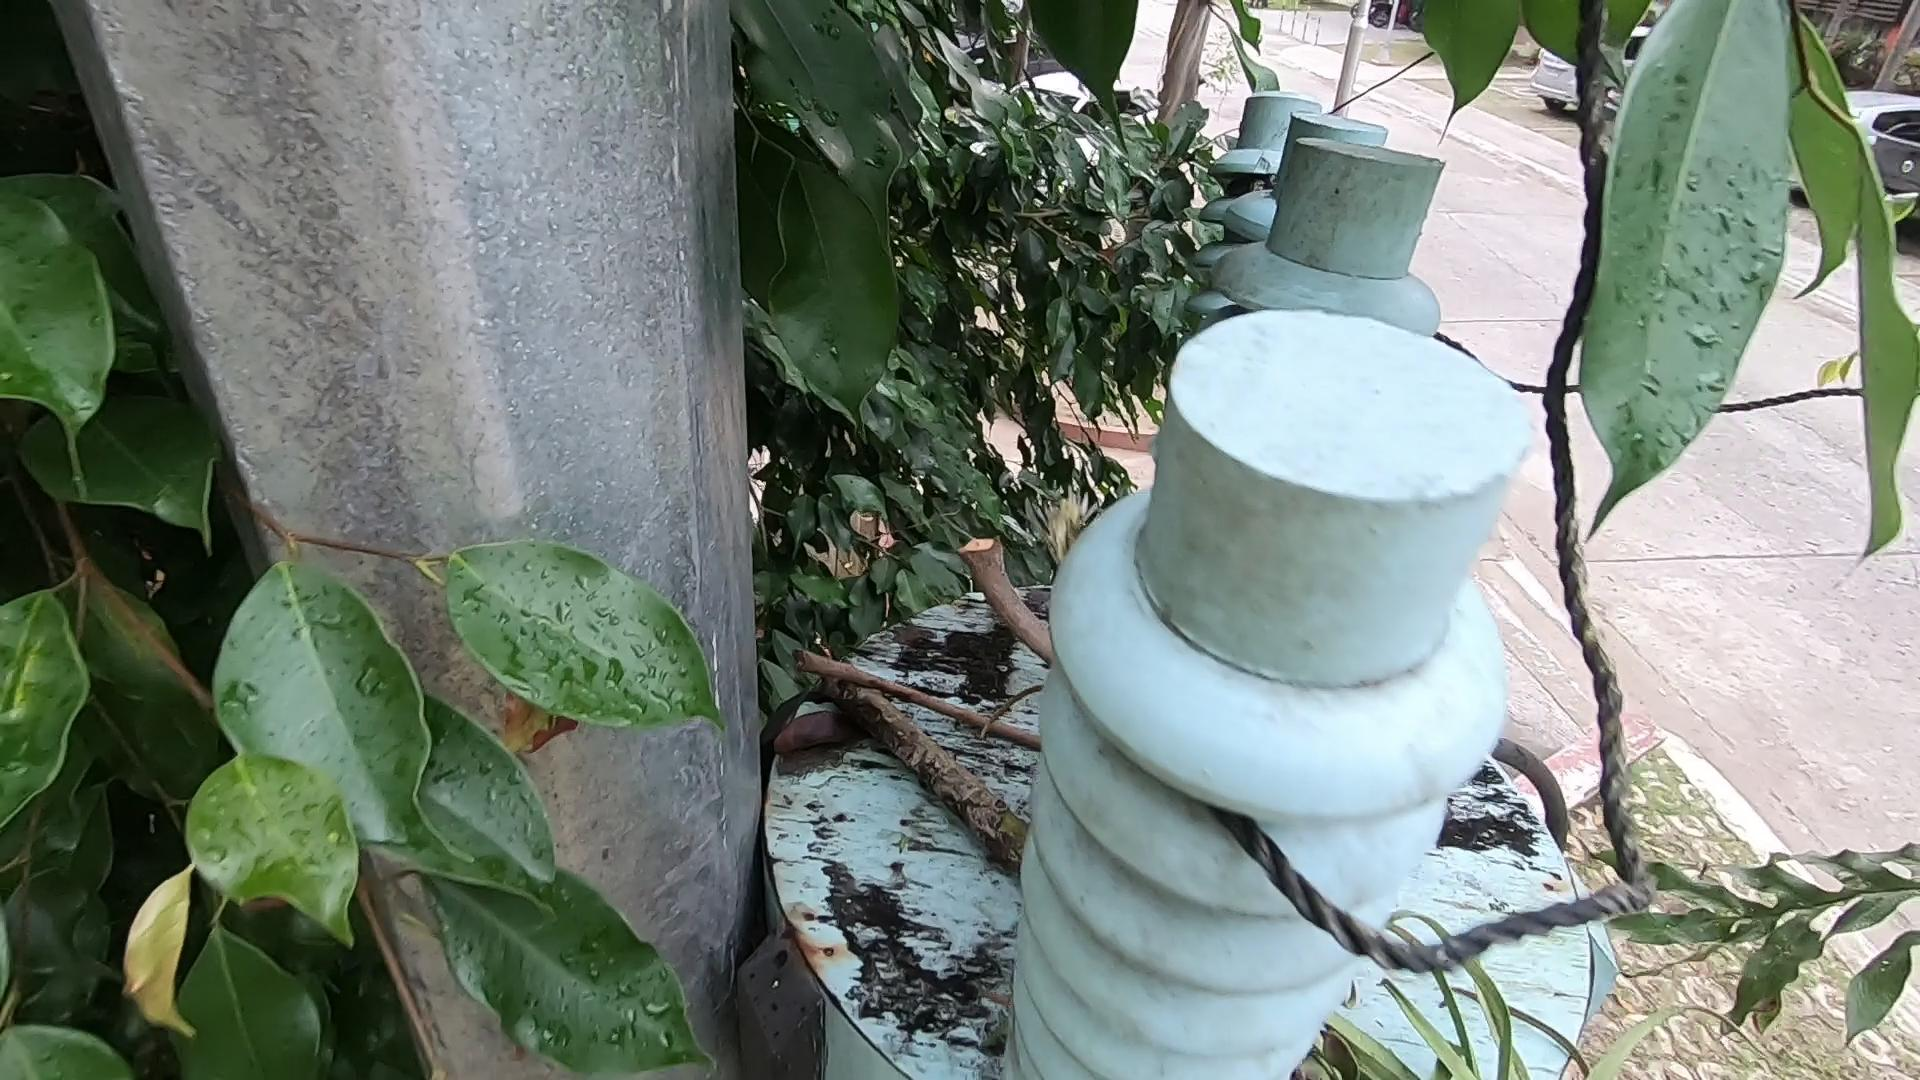branch with leaves: (831, 647, 1458, 1080)
leaf: (775, 703, 849, 790)
tree branch: (791, 634, 1062, 757), (967, 527, 1087, 727)
